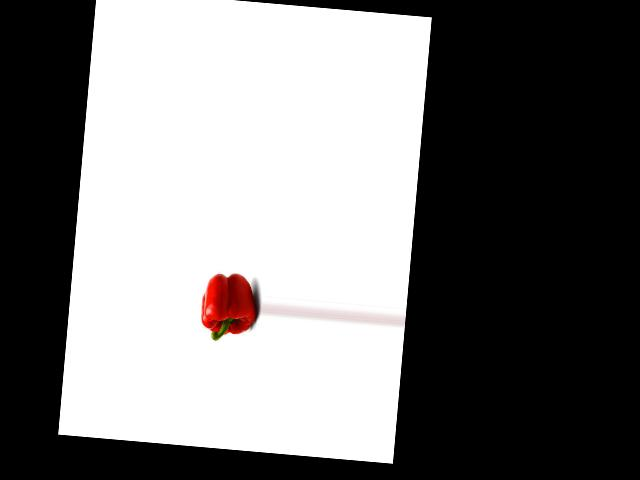bell_pepper: (198, 265, 259, 347)
